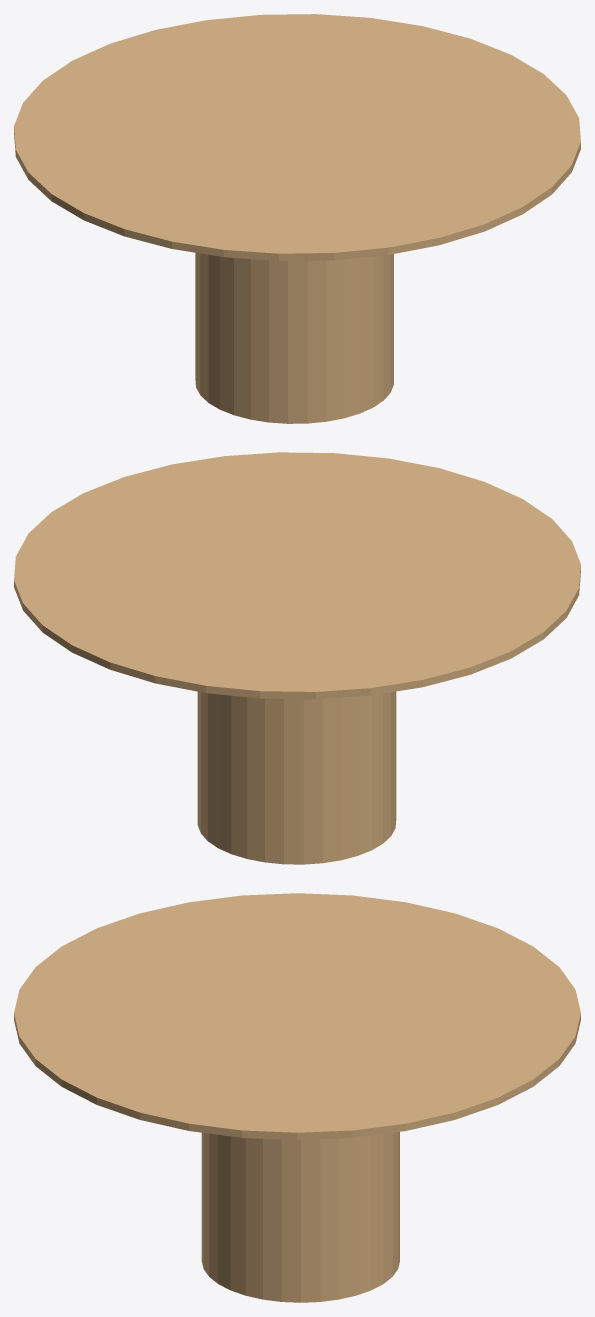
The picture shows the model from 3 angles, top to bottom: view 1: azimuth 30°, elevation 25°; view 2: azimuth 150°, elevation 25°; view 3: azimuth 270°, elevation 25°; orthographic projection.
Visible parts, largest first — view 1: Cylinder.001, Cylinder; view 2: Cylinder.001, Cylinder; view 3: Cylinder.001, Cylinder.
Part boxes in pixels (x1=…): Cylinder.001: x1=14, y1=14, x2=580, y2=260; Cylinder: x1=195, y1=252, x2=393, y2=423; Cylinder.001: x1=14, y1=452, x2=580, y2=699; Cylinder: x1=197, y1=691, x2=396, y2=864; Cylinder.001: x1=14, y1=893, x2=580, y2=1139; Cylinder: x1=201, y1=1132, x2=399, y2=1302.
Bounding box in the file's own units: 1.4 × 0.6769 × 1.4.
